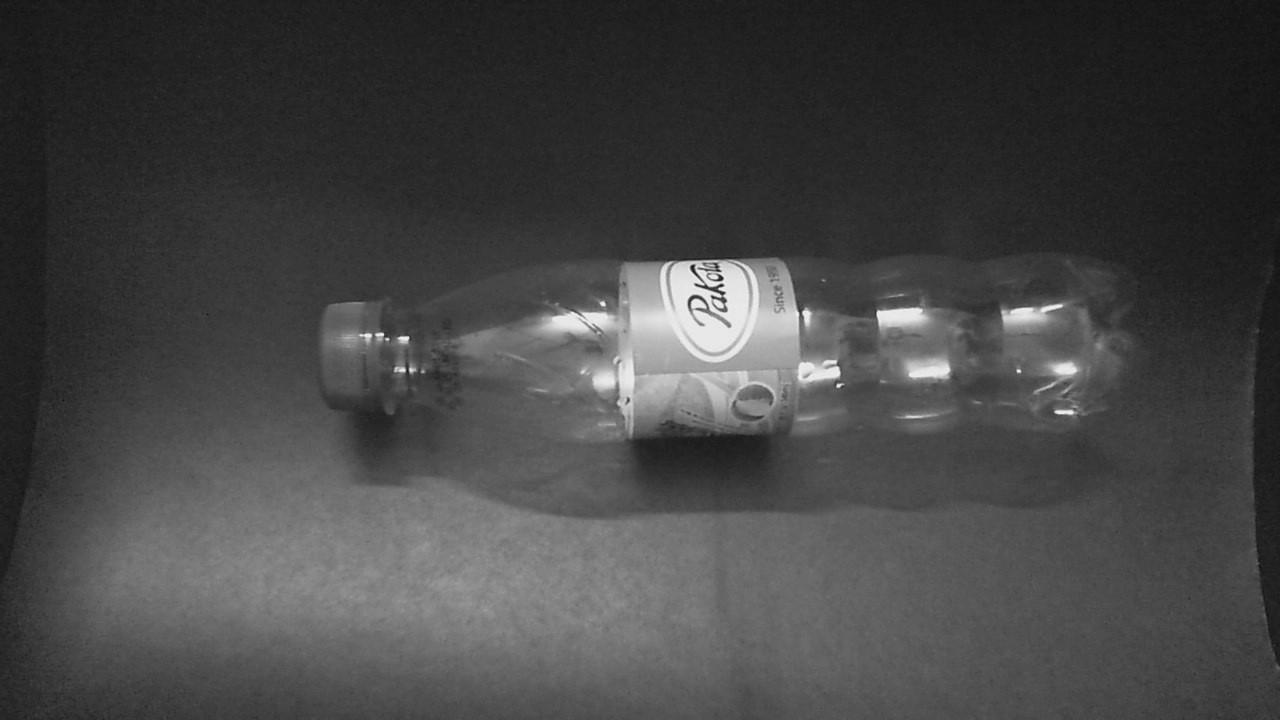bottle: (274, 225, 1173, 475)
